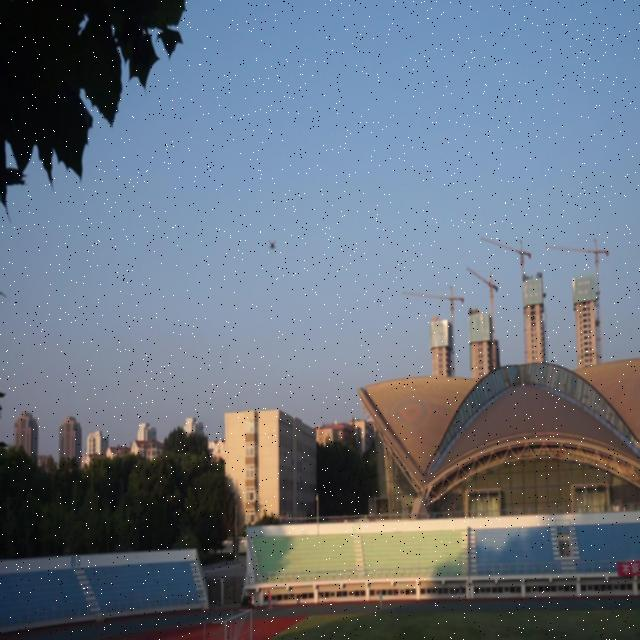UAV: (267, 240, 277, 251)
